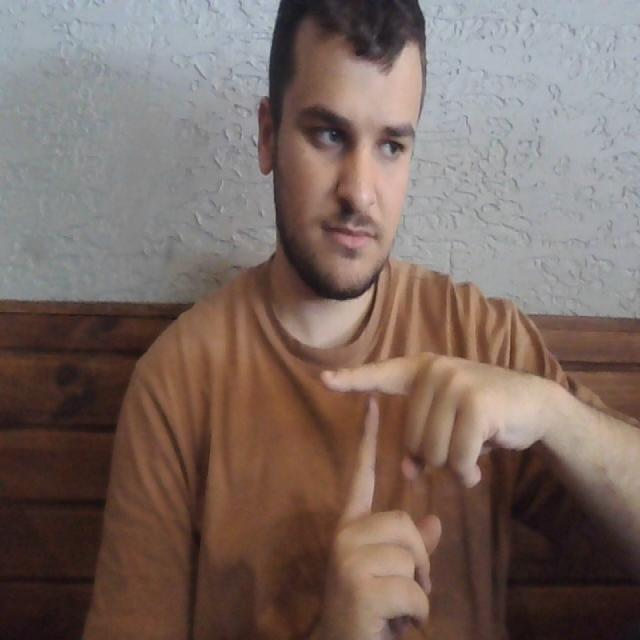Tesekkurler: (305, 340, 425, 542)
